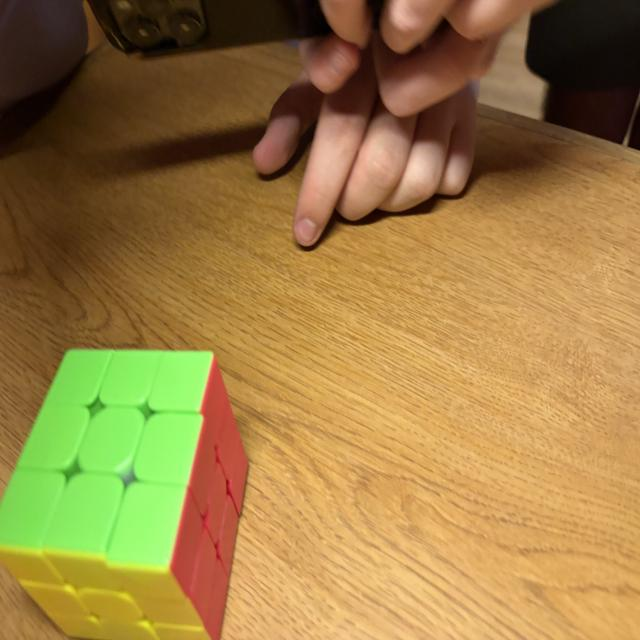Rubiks Cube: (0, 348, 251, 640)
